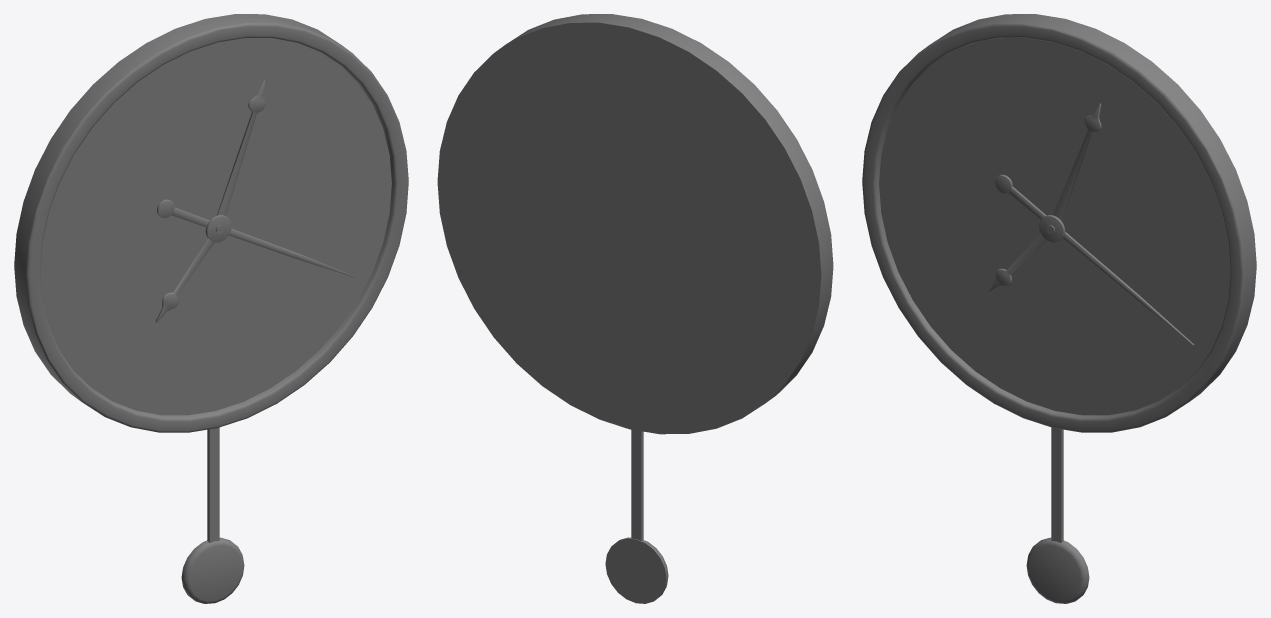
Rendered from Clock.fbx.
3 renders of one model, left to right at view 1: azimuth 30°, elevation 25°; view 2: azimuth 150°, elevation 25°; view 3: azimuth 330°, elevation 25°, orthographic.
Visible parts, largest first — view 1: Clock_24in_LR001_1; view 2: Clock_24in_LR001_1; view 3: Clock_24in_LR001_1.
Boxes of the visible parts, x1,y1,x2,y2 form: Clock_24in_LR001_1: (14, 14, 408, 603); Clock_24in_LR001_1: (437, 14, 833, 603); Clock_24in_LR001_1: (862, 14, 1256, 603).
Bounding box in the file's own units: 60.89 × 87.97 × 4.12.
Materials: 1 (1 with a texture image).
